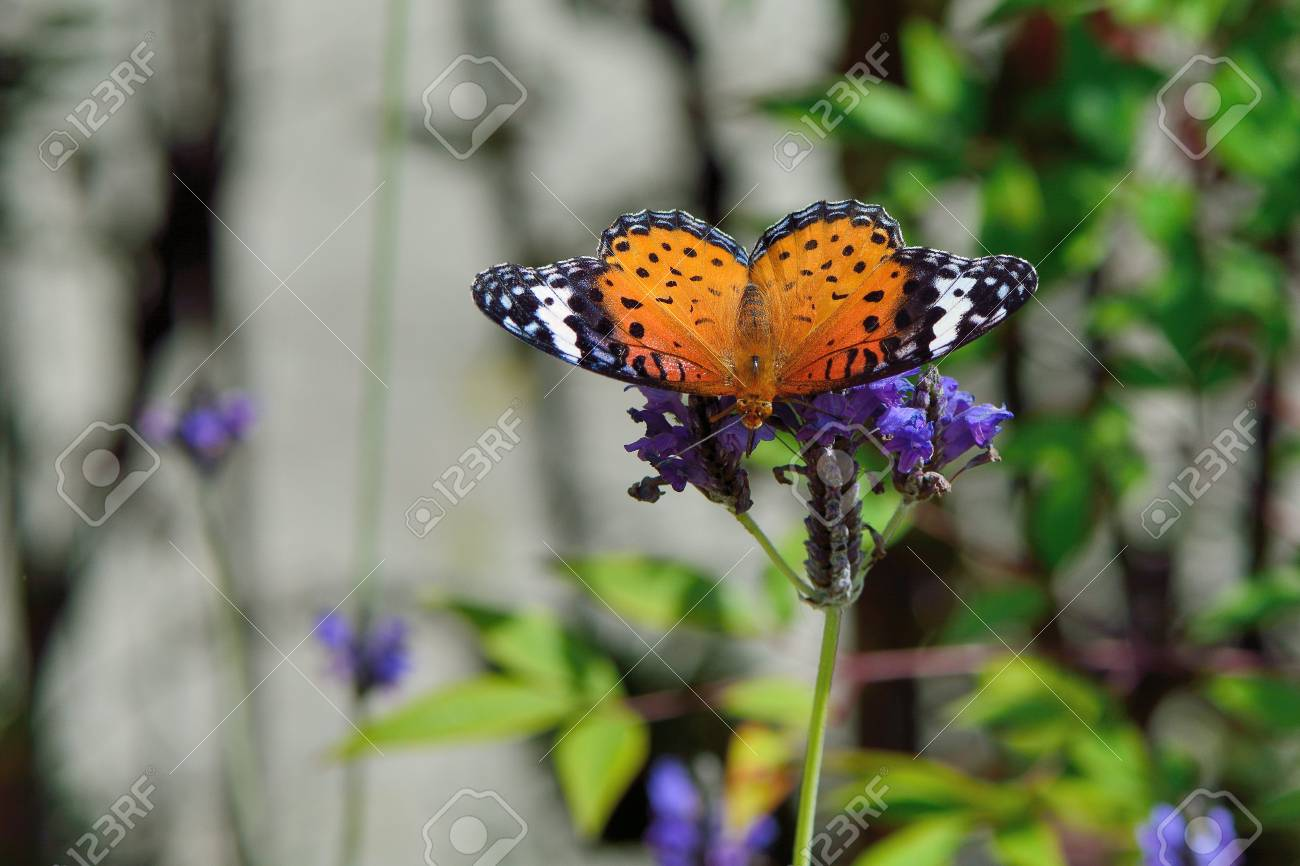Argyreus hyperbius: (466, 188, 1047, 461)
butterfly: (468, 190, 1049, 463)
